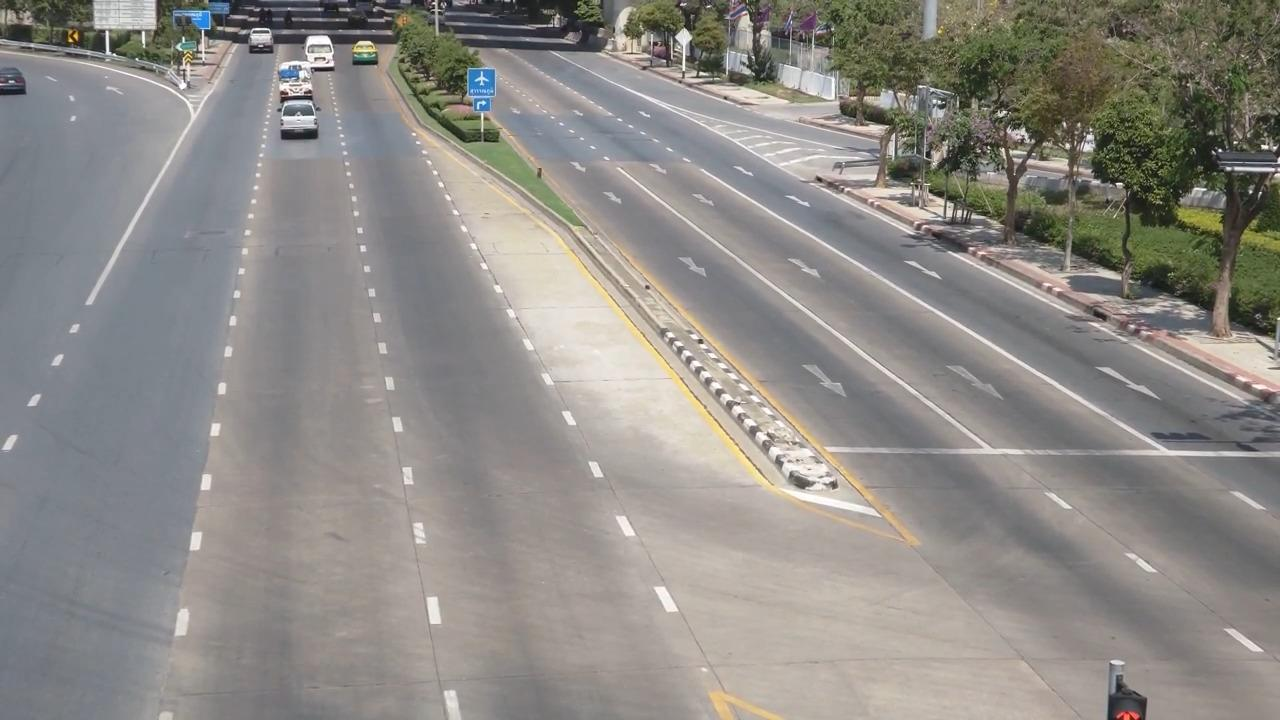CAR: (272, 105, 331, 161), (270, 59, 324, 106), (304, 34, 349, 82), (239, 24, 285, 64), (0, 56, 38, 104), (349, 38, 388, 75)
